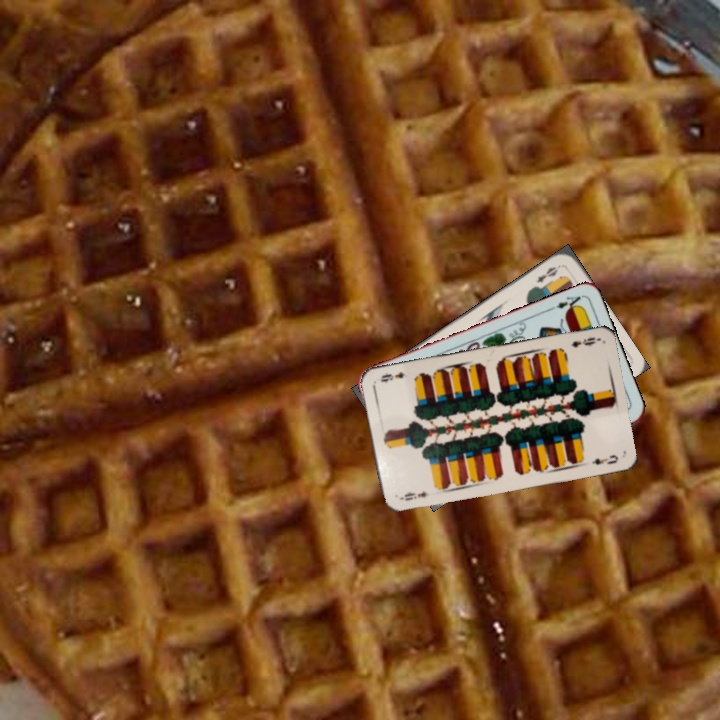E9: (396, 486, 432, 503), (568, 333, 600, 350)
EA: (546, 292, 585, 314)
EO: (533, 262, 560, 286)
